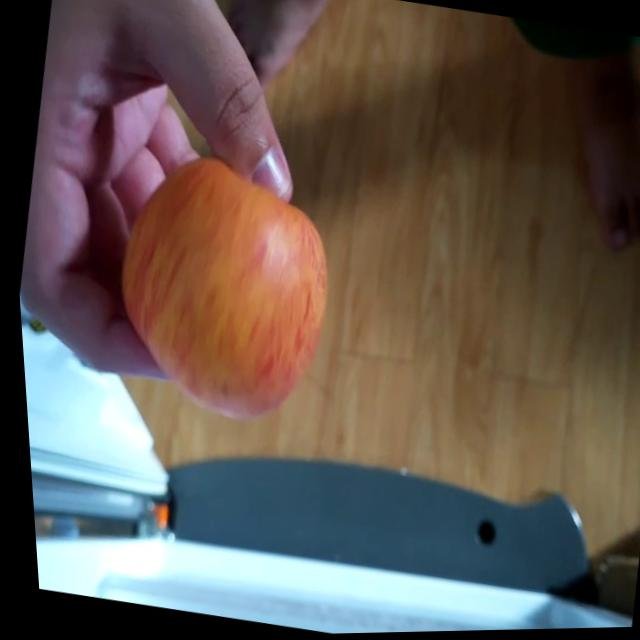apple: (86, 140, 347, 435)
